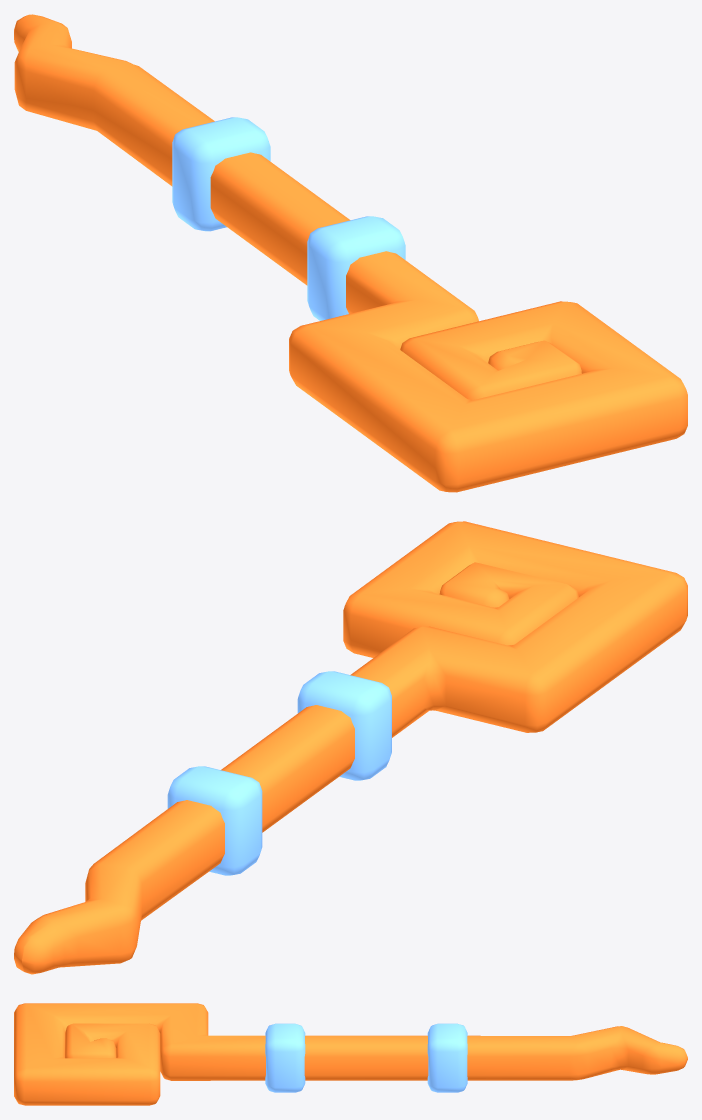
The model's file is Bule-Lv2-Wizard-WP.fbx.
The picture shows the model from 3 angles, top to bottom: view 1: azimuth 30°, elevation 25°; view 2: azimuth 150°, elevation 25°; view 3: azimuth 270°, elevation 25°; orthographic projection. The views are drawn at different scales.
Parts seen in each view (by area): view 1: Bule-Lv2-Wizard-WP; view 2: Bule-Lv2-Wizard-WP; view 3: Bule-Lv2-Wizard-WP.
Boxes of the visible parts, left/top/right/bottom form: Bule-Lv2-Wizard-WP: left=14, top=14, right=687, bottom=492; Bule-Lv2-Wizard-WP: left=14, top=521, right=687, bottom=974; Bule-Lv2-Wizard-WP: left=14, top=1003, right=687, bottom=1105.
Size of the model in its own units: 0.2968 by 0.1016 by 1.15.
